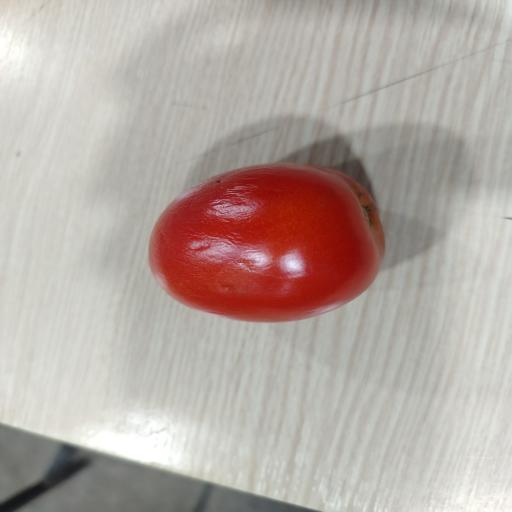spoiled: (149, 163, 383, 322)
